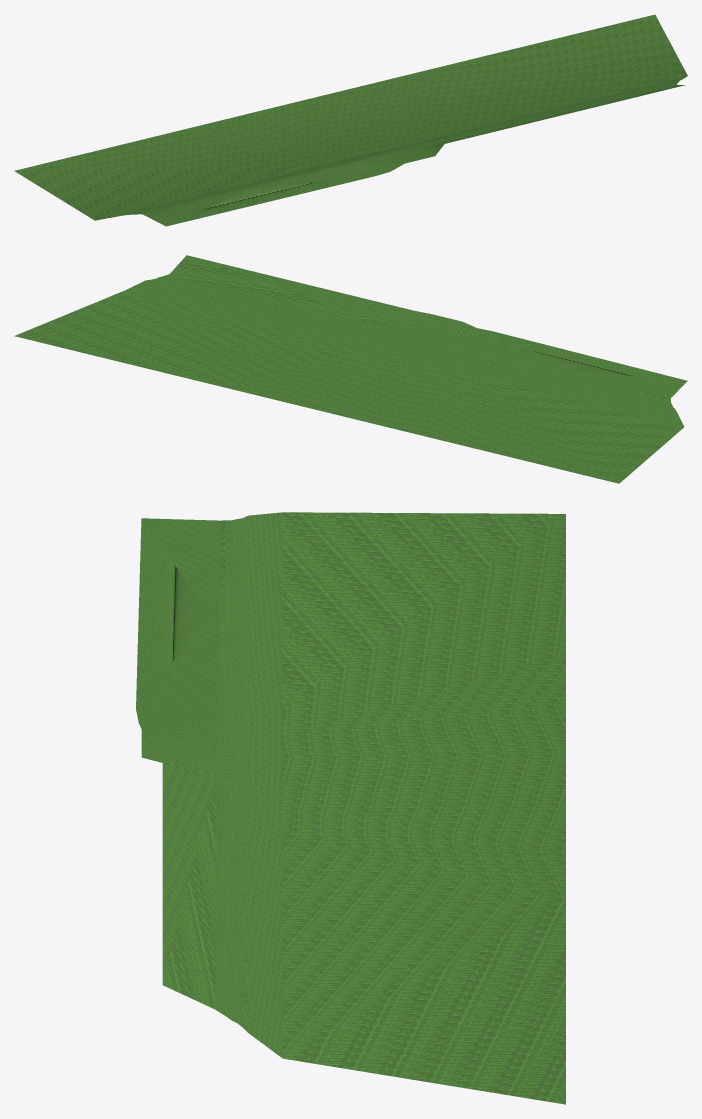
Rendered from backgroundPlain.obj.
3 renders of one model, top to bottom at view 1: azimuth 30°, elevation 25°; view 2: azimuth 150°, elevation 25°; view 3: azimuth 270°, elevation 25°, orthographic. The views are drawn at different scales.
Visible parts, largest first — view 1: Landscape.003; view 2: Landscape.003; view 3: Landscape.003.
Boxes of the visible parts, x1=… form: Landscape.003: x1=14, y1=14, x2=687, y2=226; Landscape.003: x1=14, y1=255, x2=687, y2=483; Landscape.003: x1=136, y1=512, x2=565, y2=1104.
Size of the model in its own units: 8426 by 328 by 2593.
